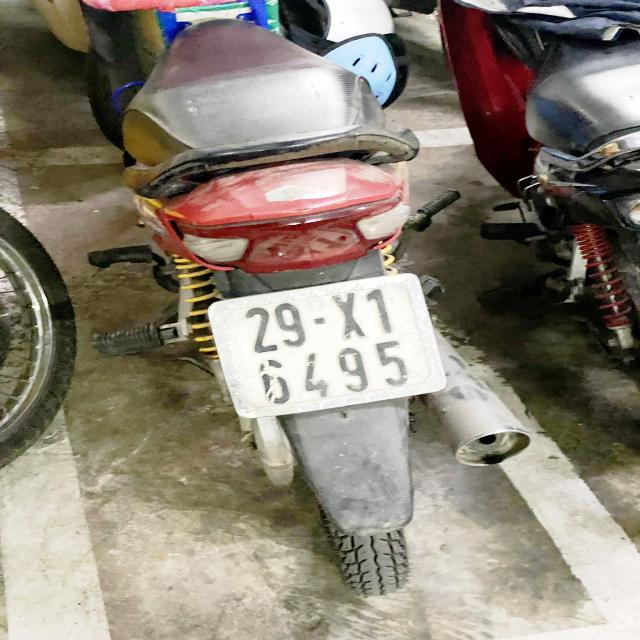license_plate: (212, 269, 453, 422)
